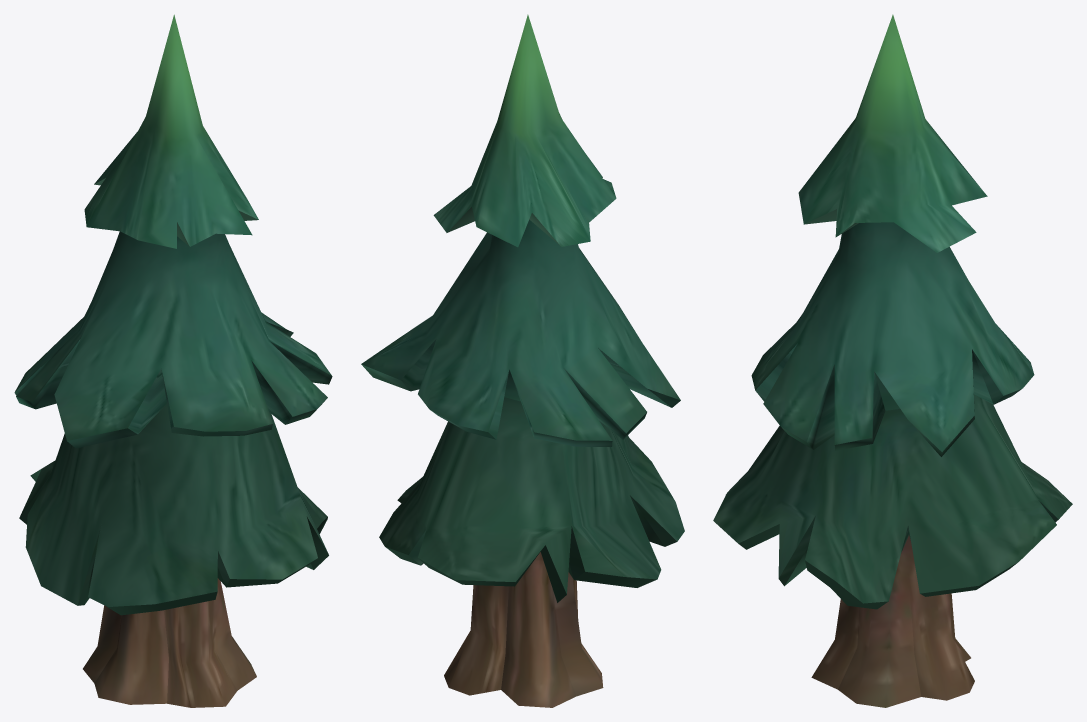
The model's file is Tree.glb.
3 renders of one model, left to right at view 1: azimuth 30°, elevation 25°; view 2: azimuth 150°, elevation 25°; view 3: azimuth 270°, elevation 25°, orthographic.
Parts seen in each view (by area): view 1: Tree; view 2: Tree; view 3: Tree.
Part boxes in pixels (x1,y1,x2,y2): Tree: [14, 14, 332, 707]; Tree: [361, 14, 684, 707]; Tree: [713, 14, 1072, 707].
Bounding box in the file's own units: 2.82 × 6.47 × 3.2.
1 material, 1 textured.
